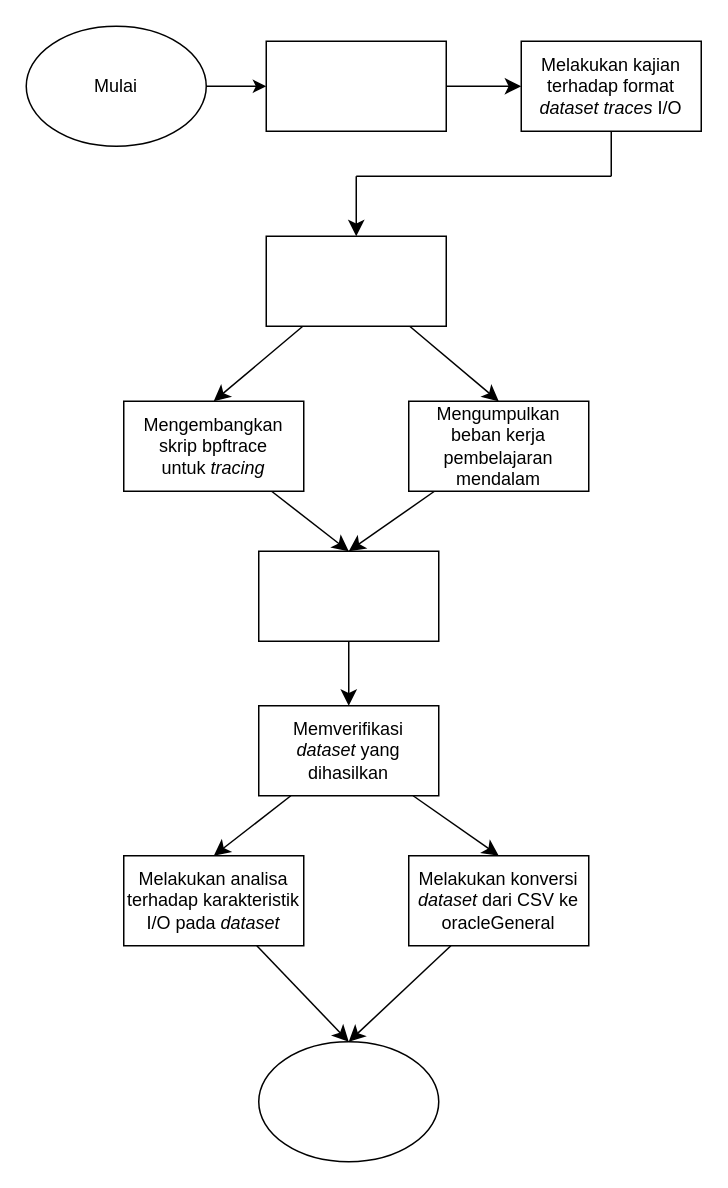
The diagram is 728 pixels wide and 1188 high, and some of its shapes have lost their labels. Each missing label, with the centre of its shape:
Melakukan kajian terhadap informasi yang umum di- trace: point 355,85
Menentukan format dan struktur dataset: point 355,280
Menjalankan skrip bpftrace dan beban kerja bersamaan: point 348,595
Selesai: point 348,1101
